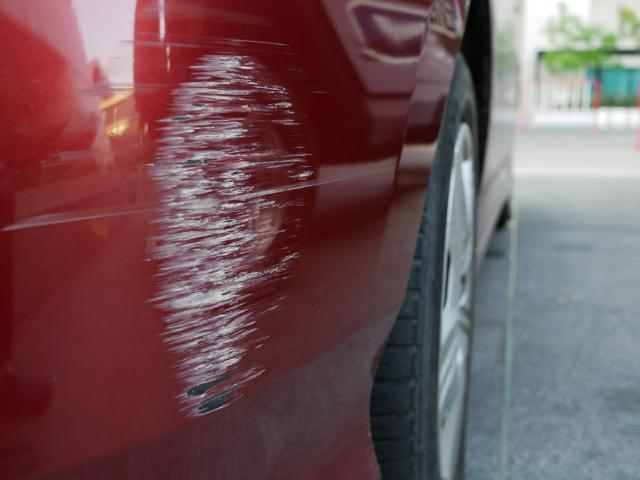scratch: (0, 0, 319, 427)
